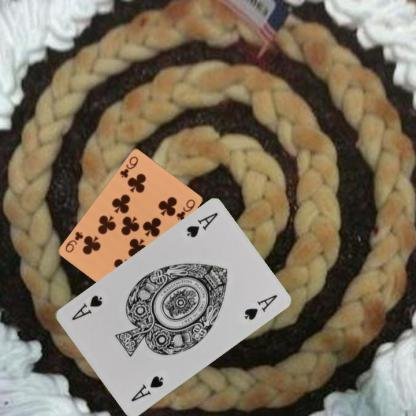9c: (118, 154, 140, 180)
As: (128, 374, 165, 404), (183, 210, 219, 240)
